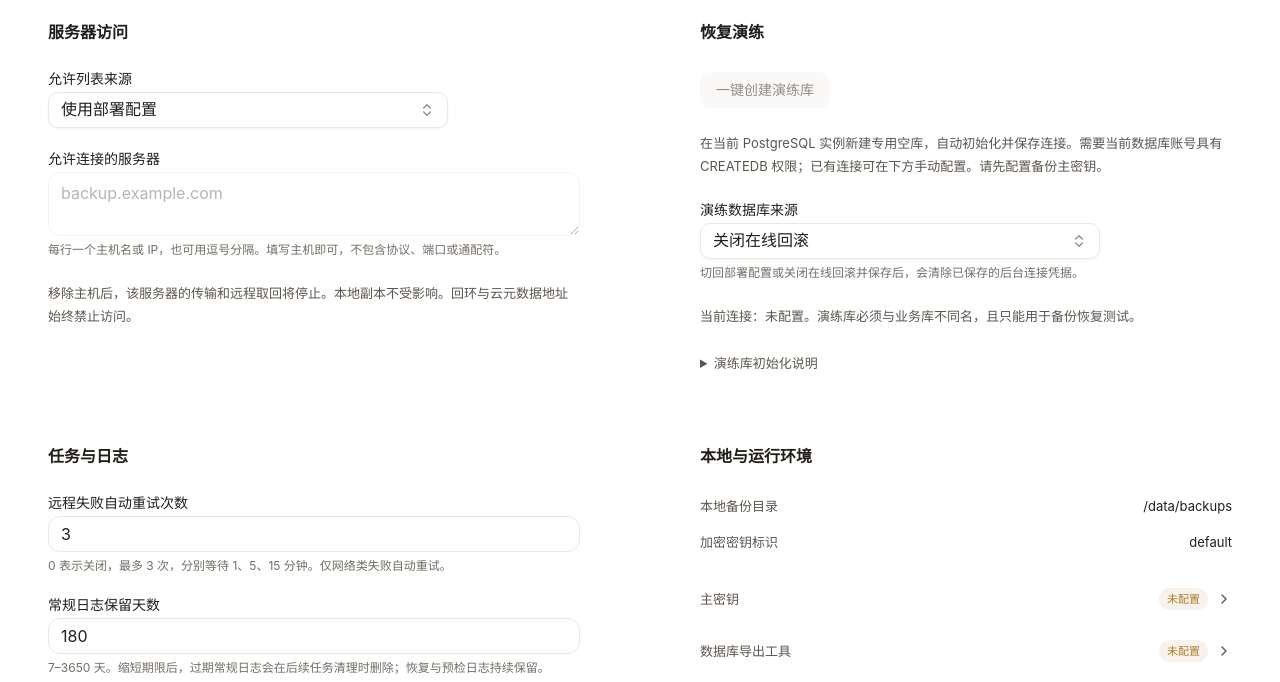
Test: 备份本地配置编辑 › 服务端生成密钥后先导出，点击保存才持久化
Click the button "主密钥 未配置": (720, 599) x1=700 y1=577 x2=1232 y2=621
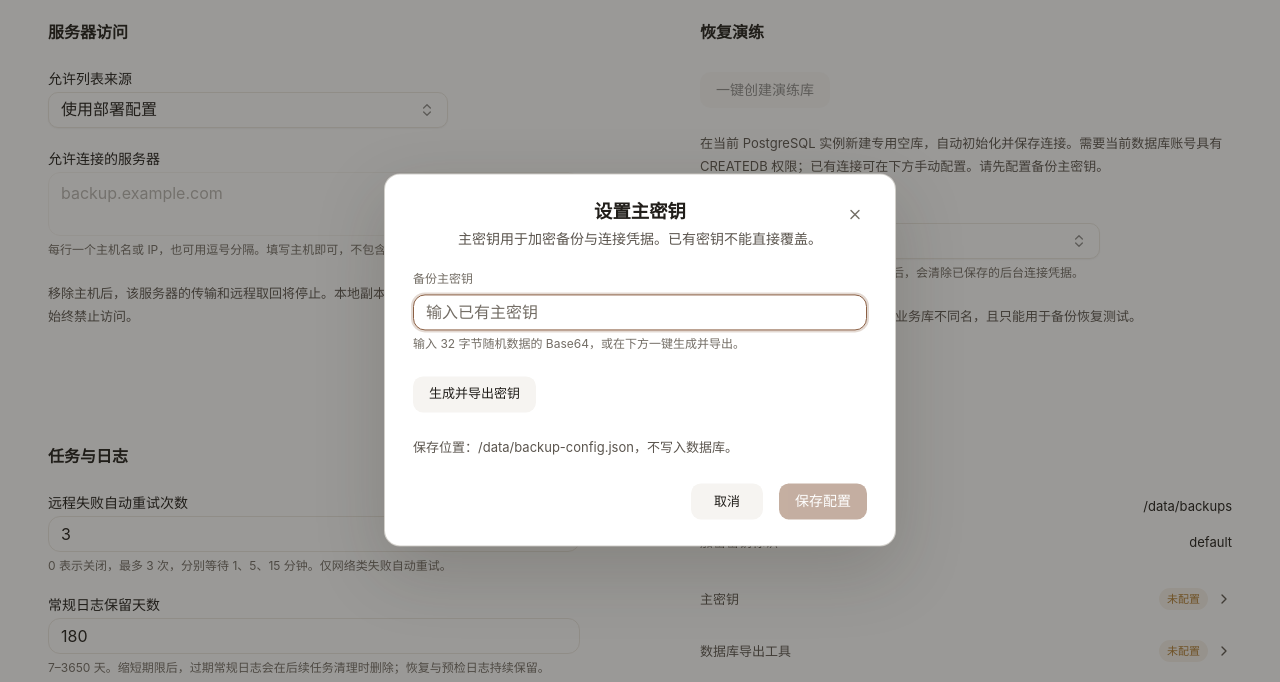
Click the button "生成并导出密钥": (474, 394) x1=413 y1=376 x2=536 y2=412
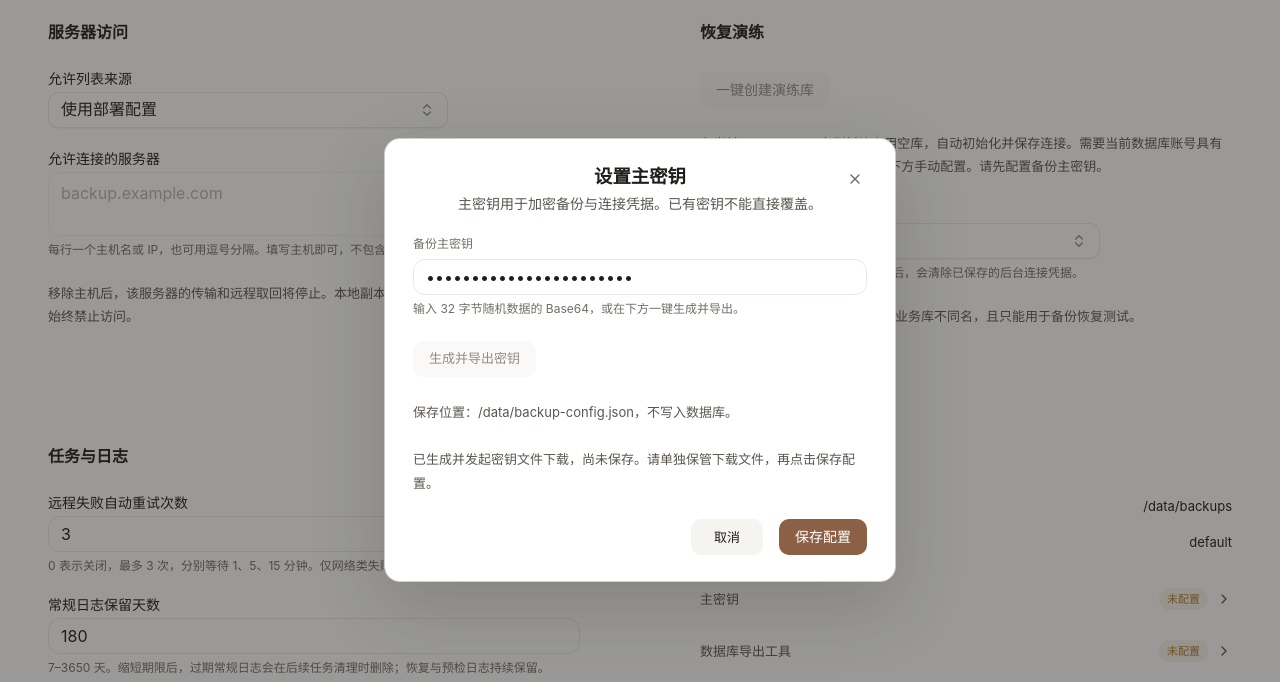
Result: the password field labelled "备份主密钥" holds "unit-test-generated-key" at x1=413 y1=259 x2=867 y2=295
Click the button "保存配置": (823, 537) x1=779 y1=519 x2=867 y2=555
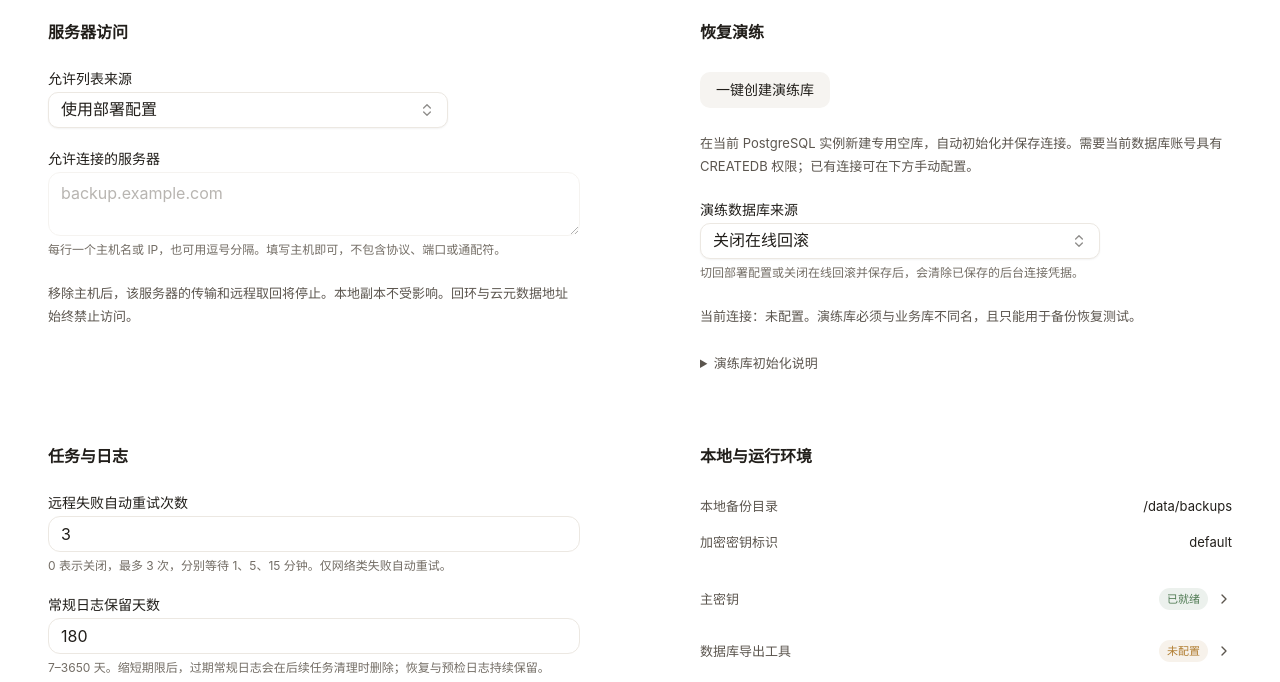
Result: the dialog is gone
Click the button "主密钥 已就绪": (720, 599) x1=700 y1=577 x2=1232 y2=621
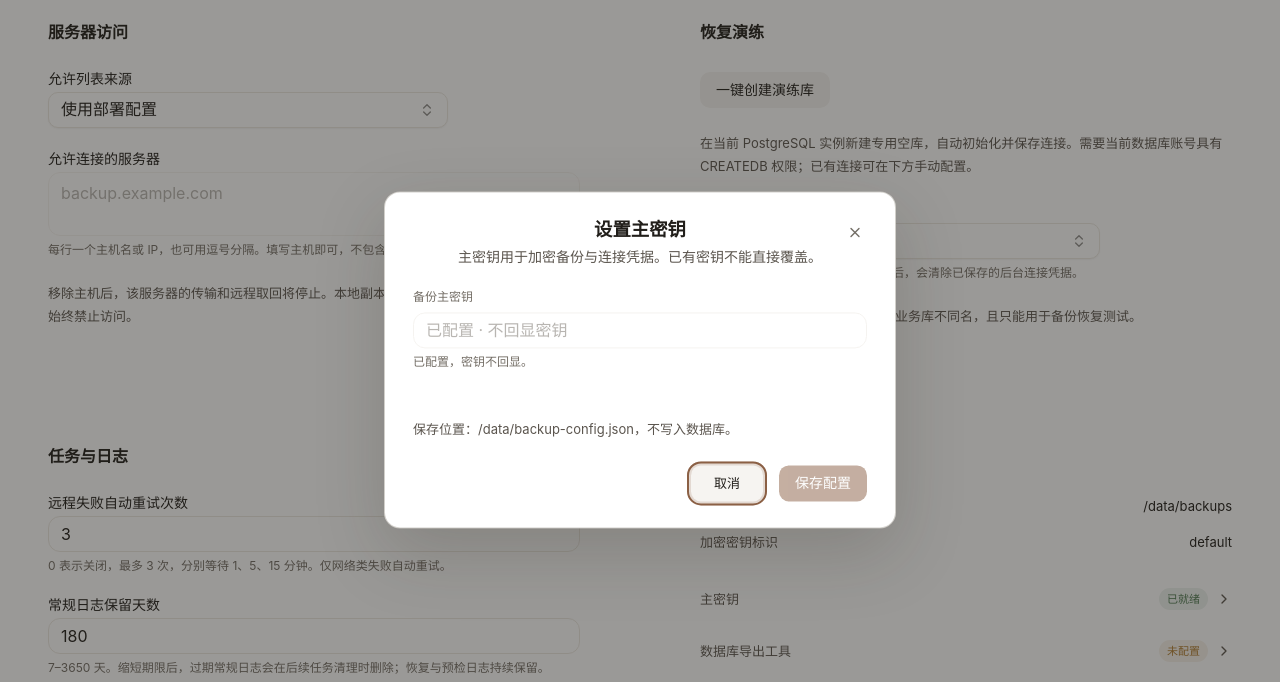
Result: the password field labelled "备份主密钥" is empty at x1=413 y1=312 x2=867 y2=348
Result: the password field labelled "备份主密钥" is disabled at x1=413 y1=312 x2=867 y2=348
